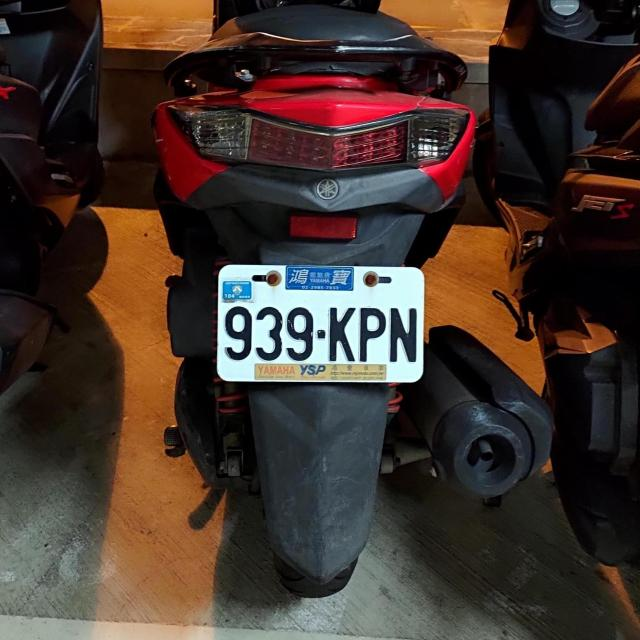W: (214, 262, 429, 384)
